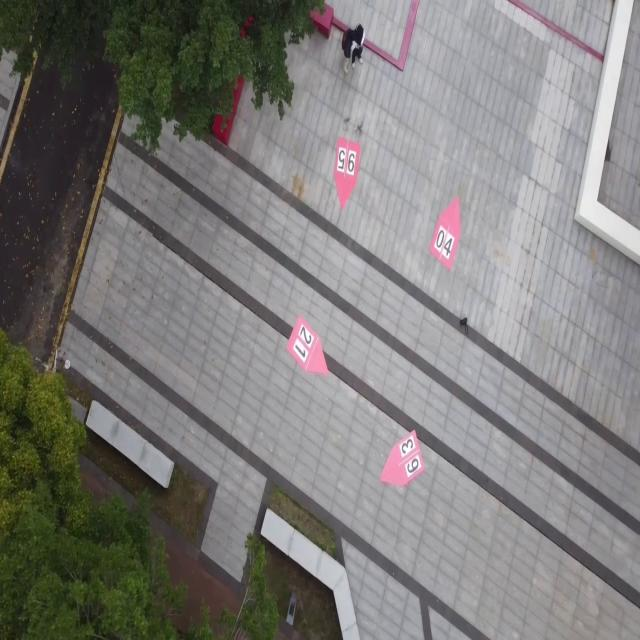-sign-: (285, 308, 331, 383), (376, 427, 428, 492), (429, 189, 463, 274), (331, 130, 363, 215)
